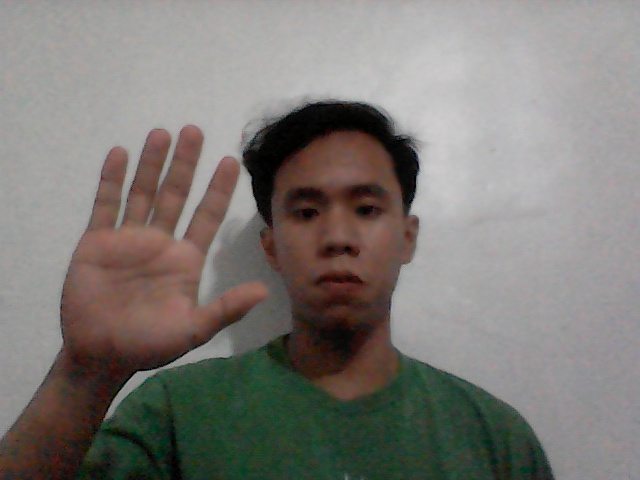Hello: (36, 106, 276, 394)
